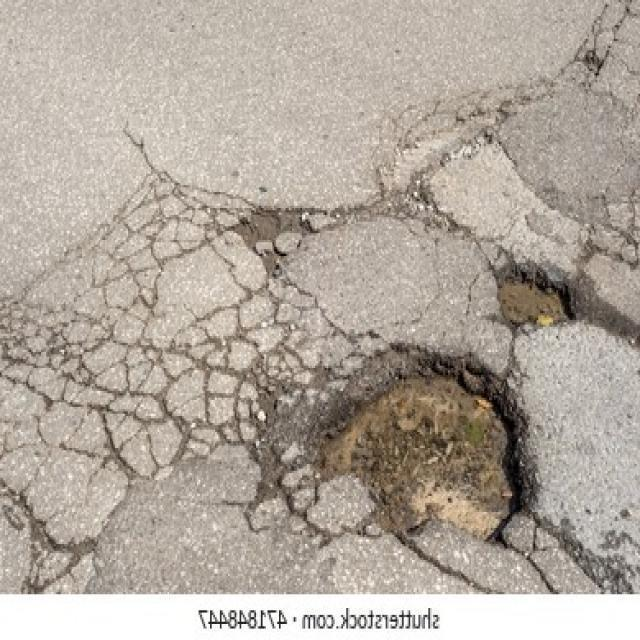Pothole: (312, 361, 527, 546), (492, 254, 579, 327)
